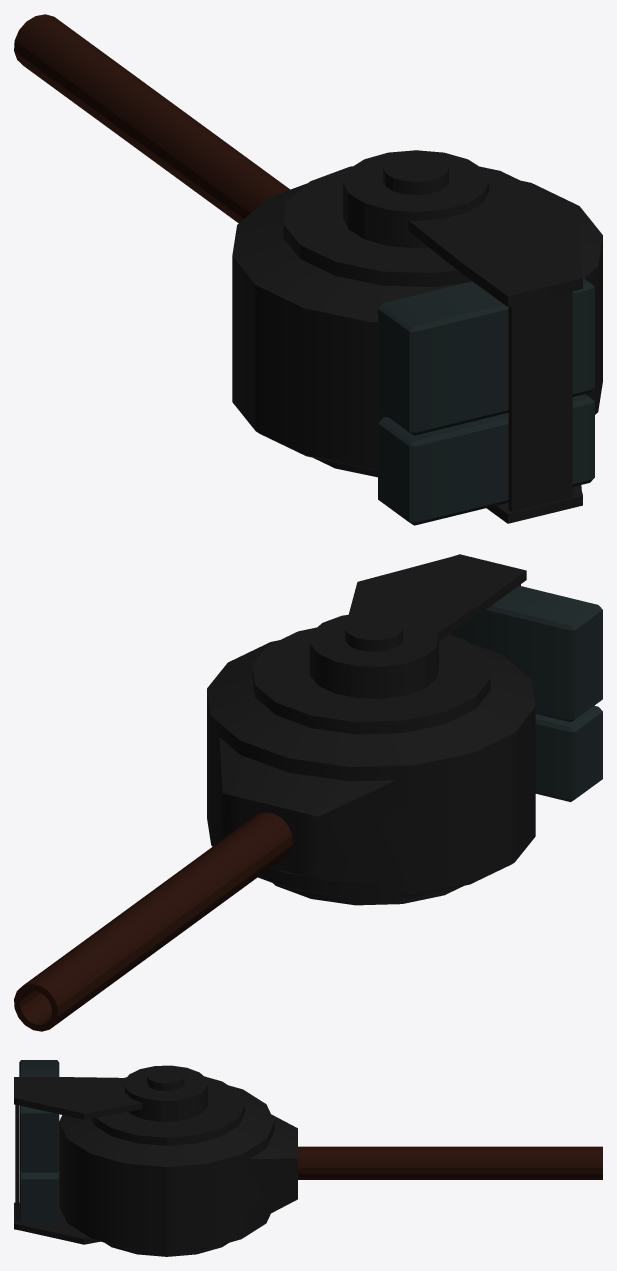
Rendered from small.fbx.
3 renders of one model, top to bottom at view 1: azimuth 30°, elevation 25°; view 2: azimuth 150°, elevation 25°; view 3: azimuth 270°, elevation 25°, orthographic. The views are drawn at different scales.
Parts seen in each view (by area): view 1: small; view 2: small; view 3: small.
Part boxes in pixels (<box>): small: <box>14,14,602,525</box>; small: <box>14,554,602,1031</box>; small: <box>14,1060,602,1256</box>.
Size of the model in its own units: 150 by 409 by 113.
